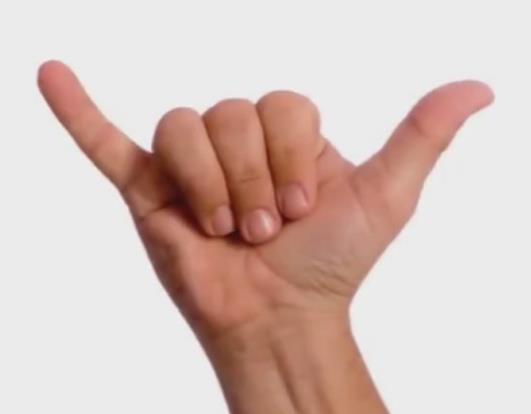clockwise: (29, 56, 503, 317)
